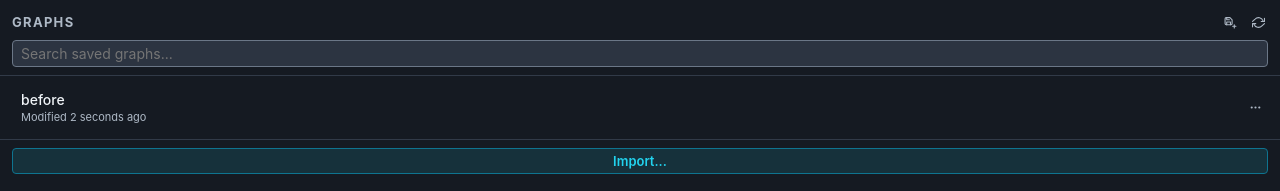
Scenario: GraphsTab list › refreshing re-reads the list
The width and height of the screenshot is (1280, 191).
Expected: the button with aria-label "Open before" is shown, [9,83,1243,132]
Step 1. Click the button named "Refresh the graph list" → (1258, 22), box [1248,12,1268,32]
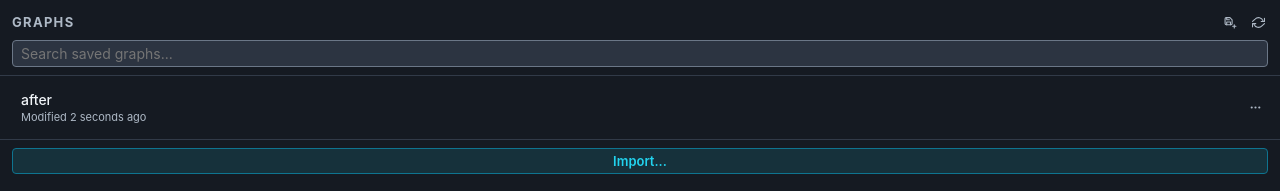
Now the button with aria-label "Open after" is shown, box [9,83,1243,132]
